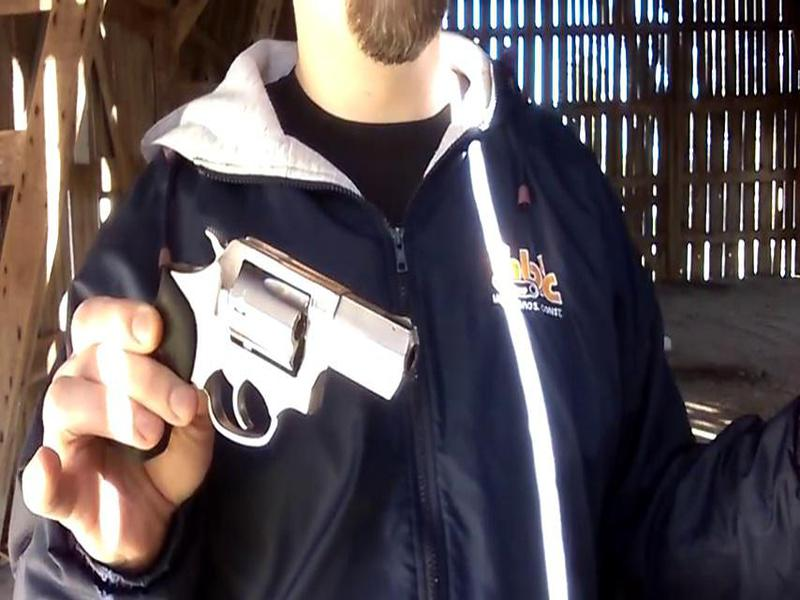Revolver: (153, 217, 434, 464)
